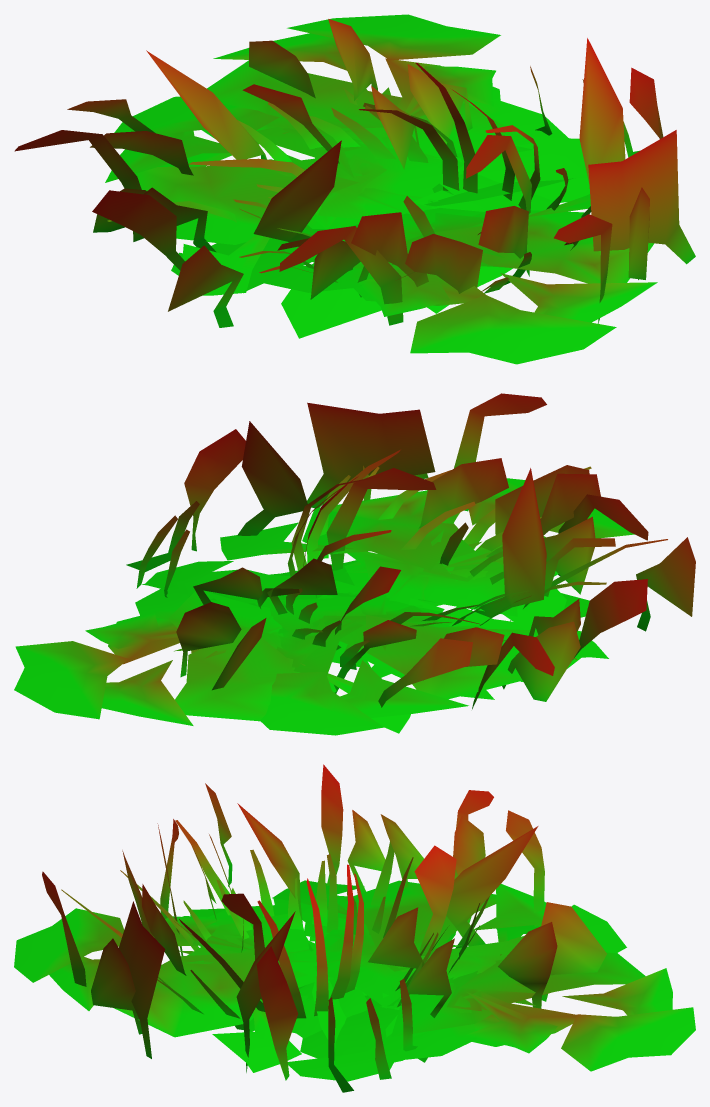
Rendered from Var13_LOD0.fbx.
3 views of the same model, one above another, from view 1: azimuth 30°, elevation 25°; view 2: azimuth 150°, elevation 25°; view 3: azimuth 270°, elevation 25° (orthographic). The views are drawn at different scales.
Visible parts, largest first — view 1: _rf7u_Var13_LOD0; view 2: _rf7u_Var13_LOD0; view 3: _rf7u_Var13_LOD0.
Part boxes in pixels (left/top/right/bottom): _rf7u_Var13_LOD0: left=14, top=14, right=695, bottom=364; _rf7u_Var13_LOD0: left=14, top=393, right=695, bottom=735; _rf7u_Var13_LOD0: left=14, top=764, right=695, bottom=1092.
Size of the model in its own units: 49.73 by 14.56 by 60.36.
